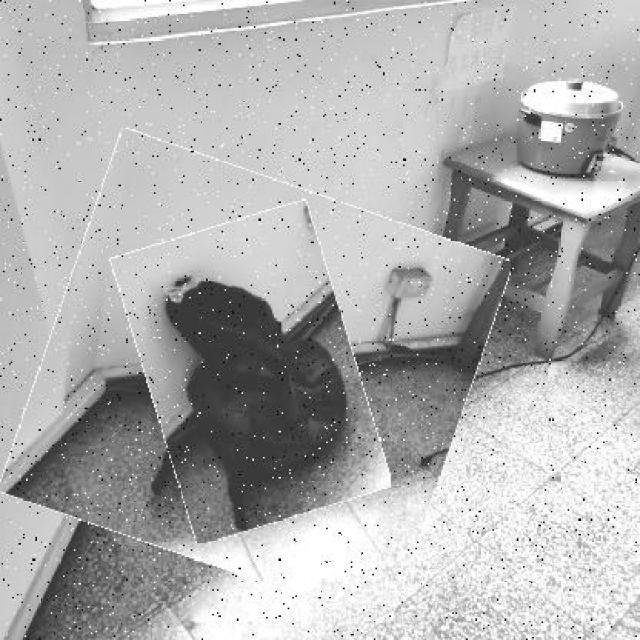waste: (22, 156, 487, 598), (129, 210, 374, 533)
